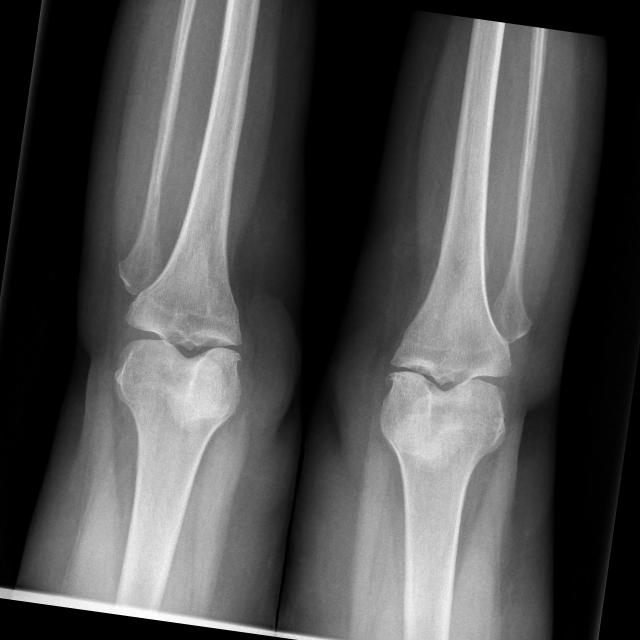Knee: (371, 296, 524, 459), (108, 262, 257, 424)
